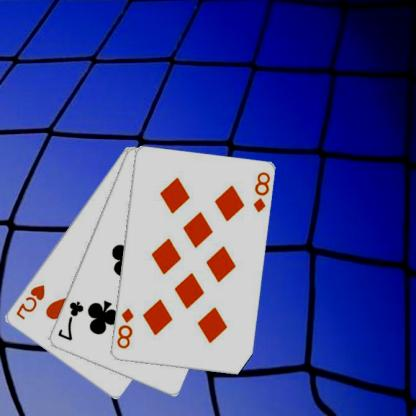5H: (14, 282, 48, 321)
7C: (57, 299, 86, 342)
8D: (115, 306, 136, 350), (252, 170, 273, 214)
